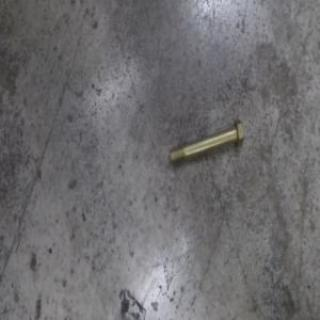Bolttrack_idkeyframe: (168, 116, 243, 166)
